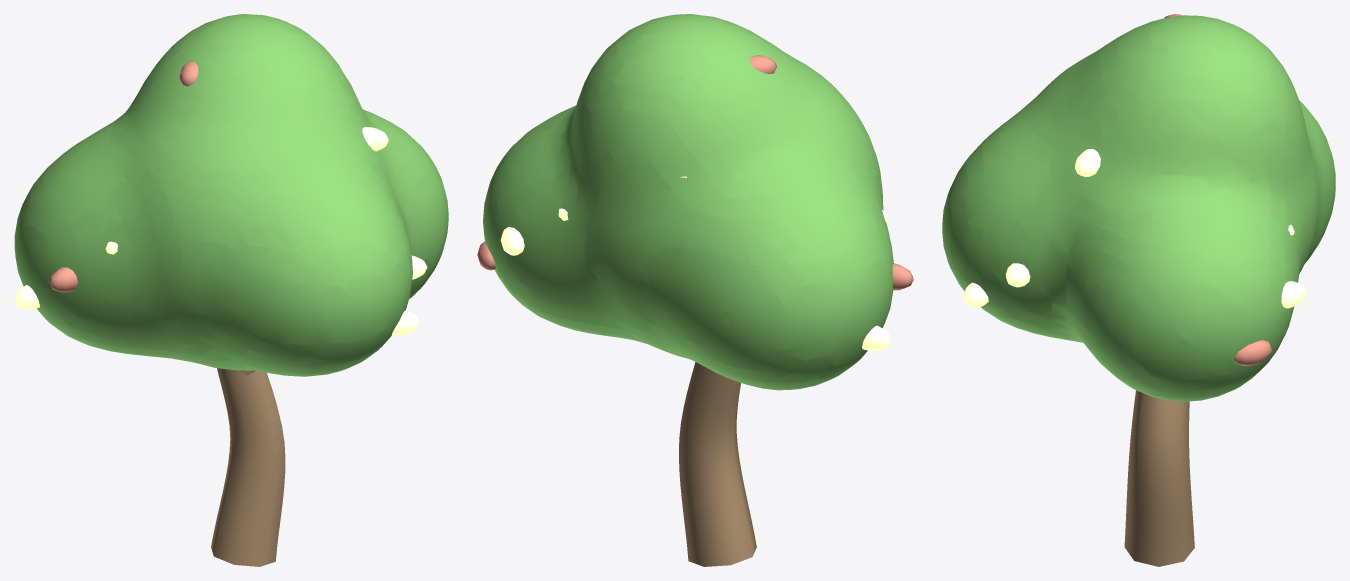
File: E26_Chloroplast_Tree.glb
The picture shows the model from 3 angles, left to right: view 1: azimuth 30°, elevation 25°; view 2: azimuth 150°, elevation 25°; view 3: azimuth 270°, elevation 25°; orthographic projection. The views are drawn at different scales.
Visible parts, largest first — view 1: E26_Chloroplast_Tree_Mesh; view 2: E26_Chloroplast_Tree_Mesh; view 3: E26_Chloroplast_Tree_Mesh.
Boxes of the visible parts, x1,y1,x2,y2 form: E26_Chloroplast_Tree_Mesh: (14,14,448,566); E26_Chloroplast_Tree_Mesh: (477,14,913,566); E26_Chloroplast_Tree_Mesh: (942,14,1335,566).
Bounding box in the file's own units: 5.67 × 7.07 × 4.7.
